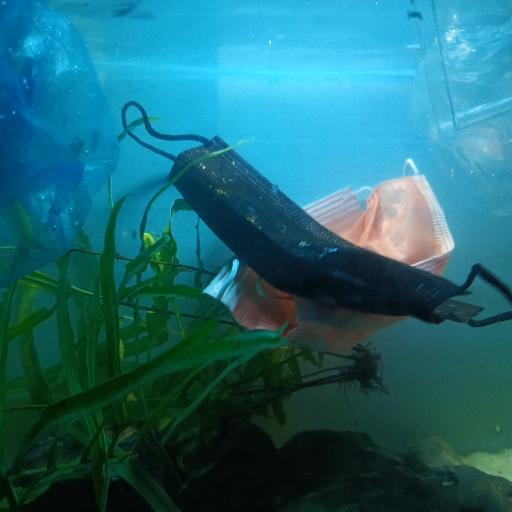mask: (120, 101, 512, 330), (198, 164, 456, 350)
plastic_bag: (0, 0, 119, 292), (409, 0, 512, 226)
plastic_cup: (416, 0, 512, 140)
